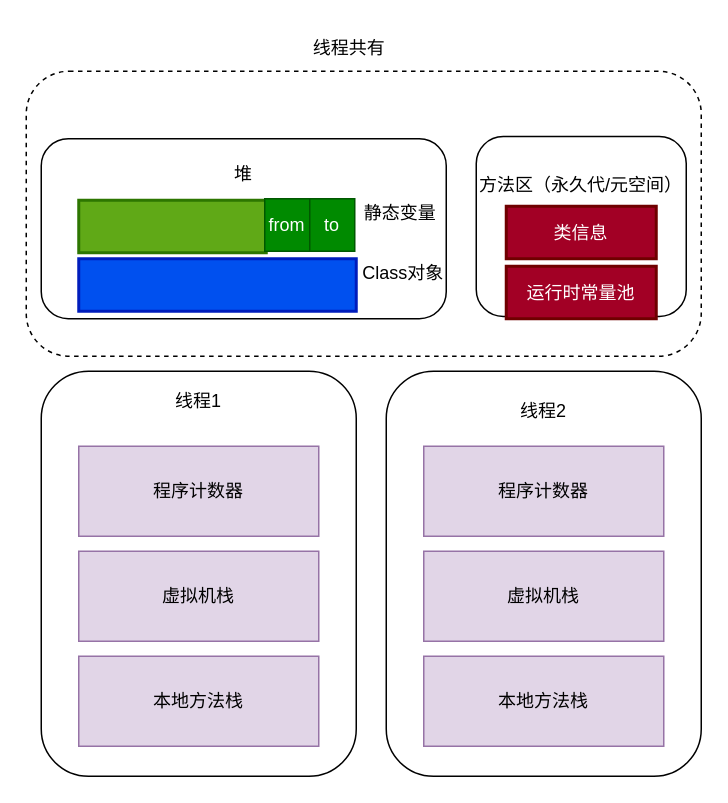
Some shapes in this 728 by 803 pixel diagram are drawn without their labels. Here are the shapes that lost their labels. From the top down, the centre of each, then its label:
the point at 171,226: Eden
the point at 216,284: 老年代
